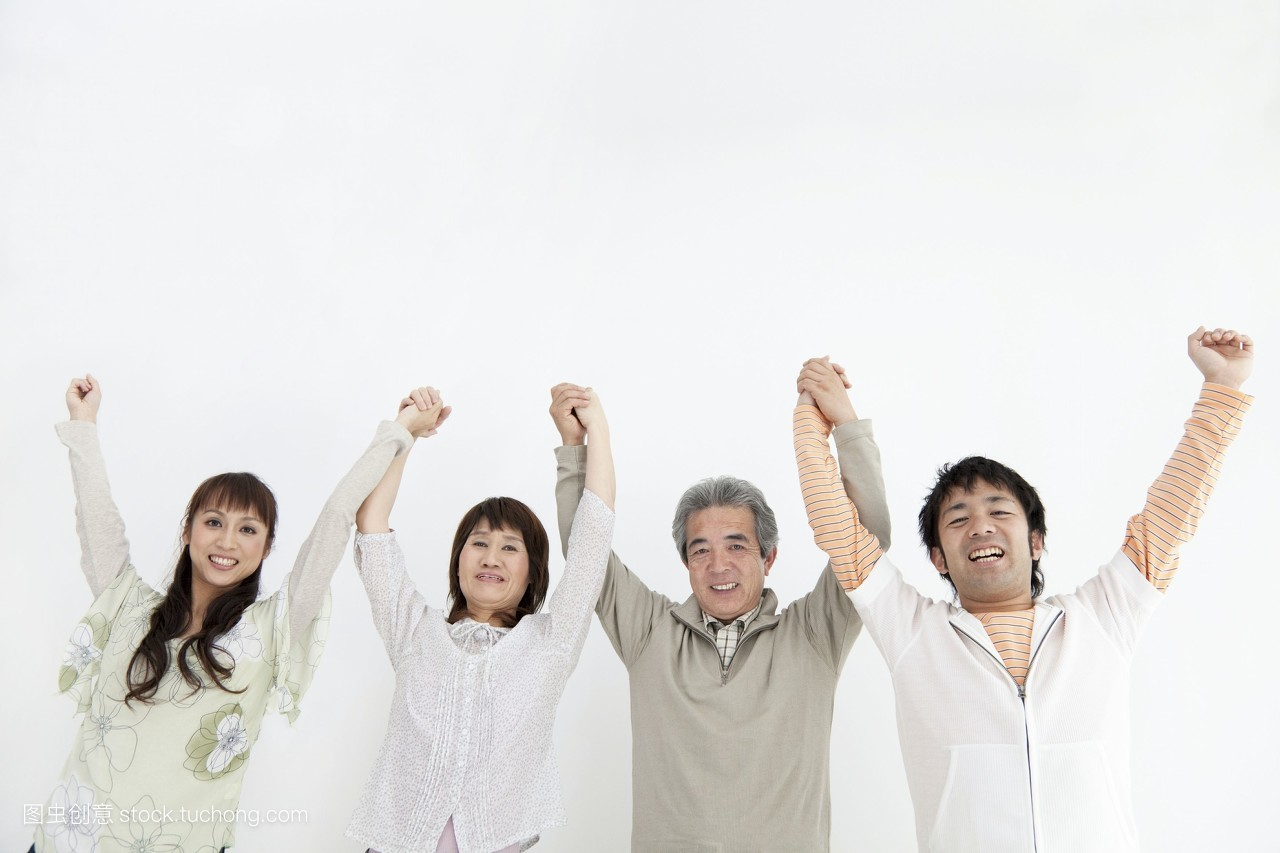handsup: (789, 318, 1257, 853), (41, 332, 466, 842), (530, 348, 892, 853), (346, 358, 631, 836)
